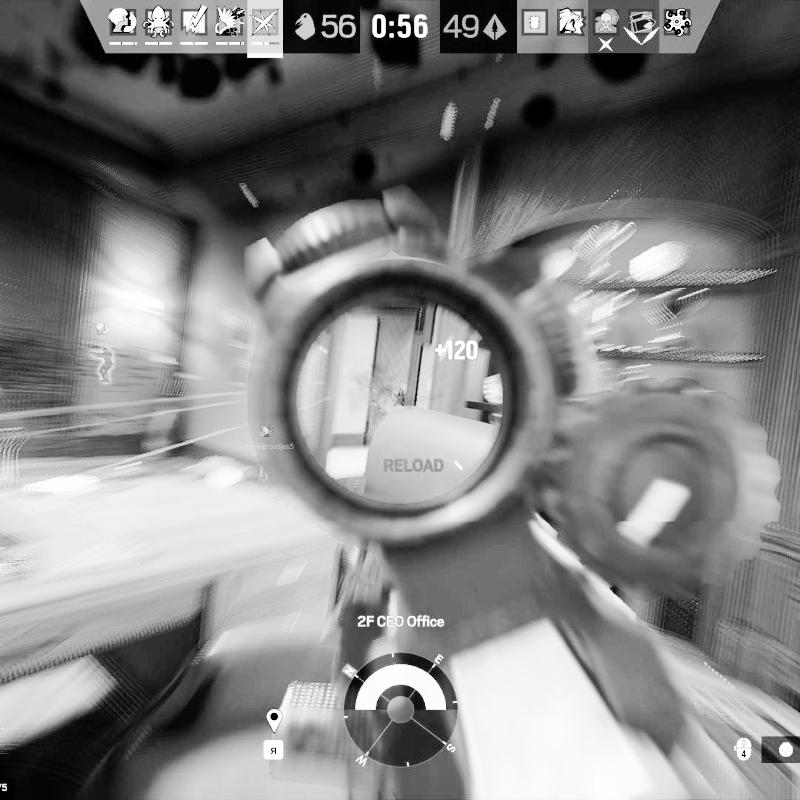Friend_label: (239, 422, 293, 453), (81, 321, 122, 349)
